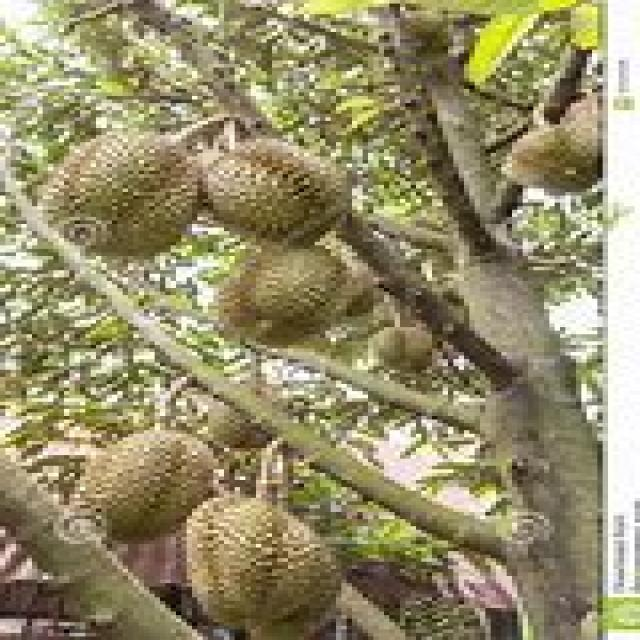mature: (188, 496, 341, 629), (41, 134, 201, 256), (202, 139, 349, 242), (82, 431, 214, 540), (219, 245, 347, 345)
